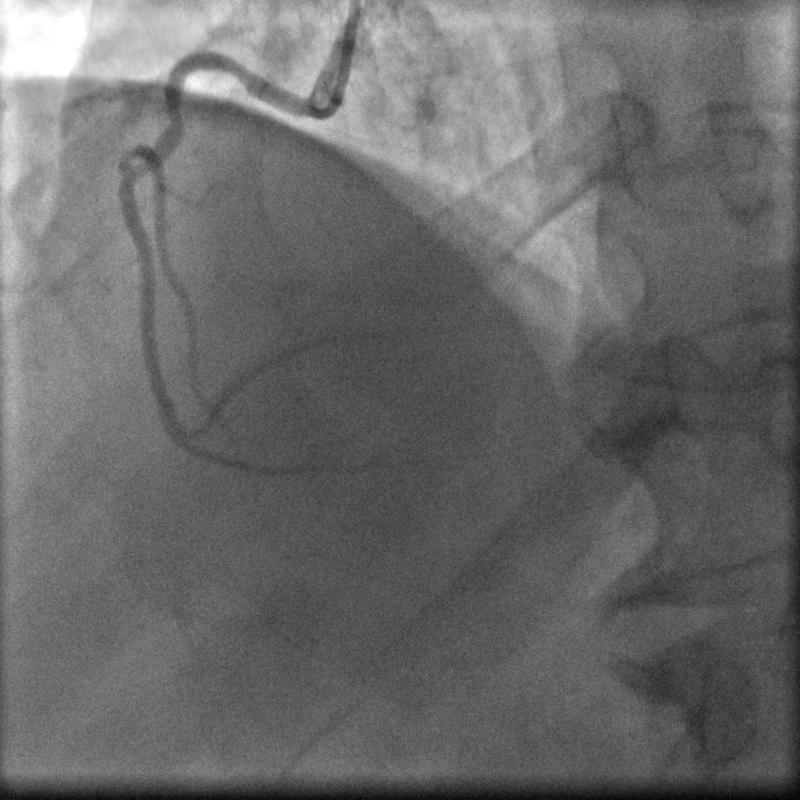Stenosis: (162, 103, 191, 133)
